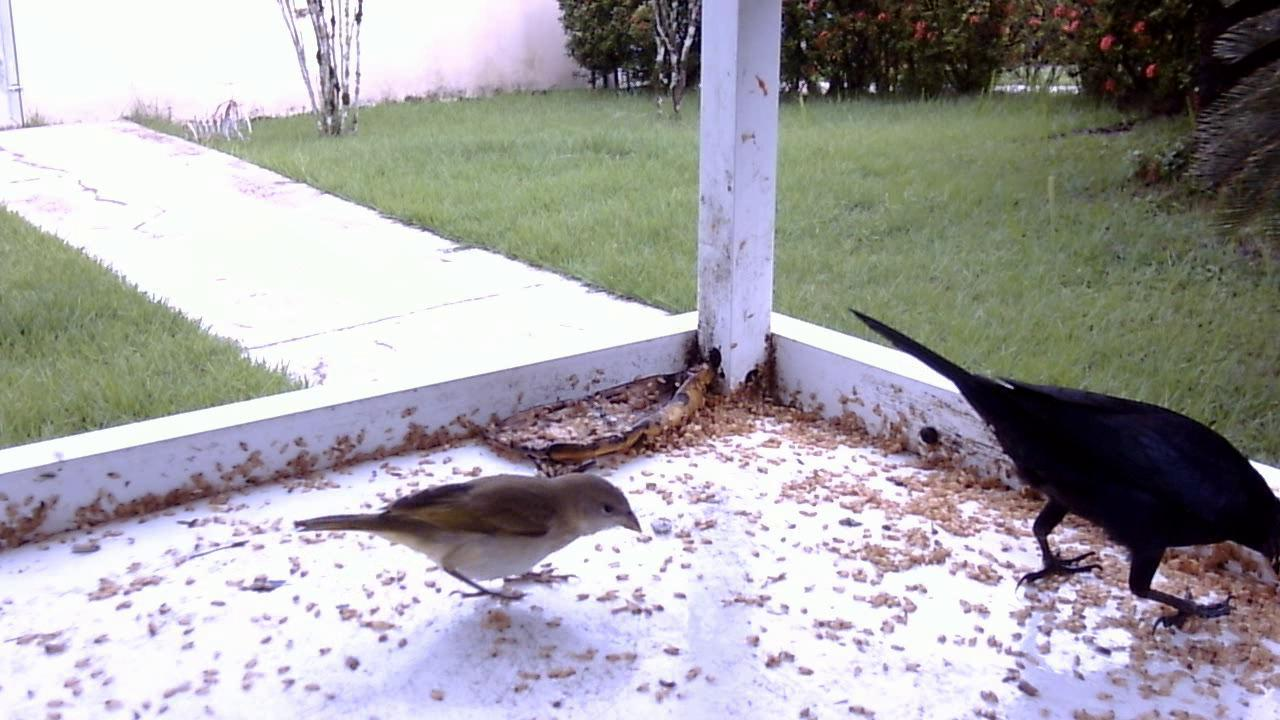canario_do_amazonas: (290, 455, 644, 619)
chupim: (835, 300, 1270, 639)
